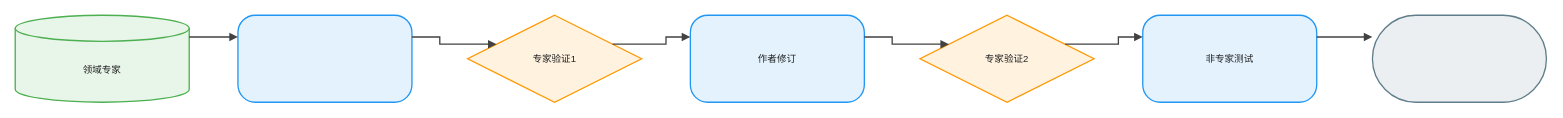
The diagram is 1563 pixels wide and 118 high, and some of its shapes have lost their labels. The shapes that lost their labels are listed below. From the top down, each one's centre as x and y in pixels, then its label:
At pixel 324 58: "选择题草稿".
At pixel 1459 58: "准确率".
